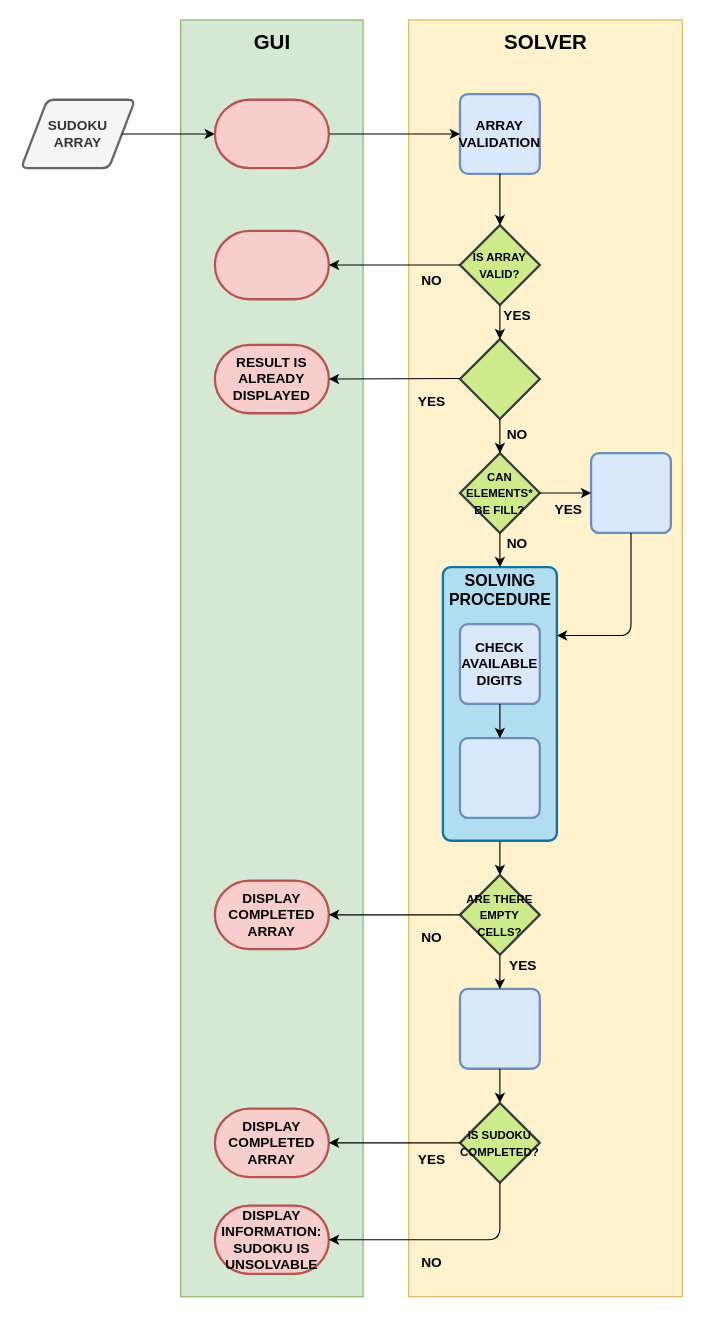
This 702x1317 diagram has some shape labels left out. The box of each missing label's shape, as (x1, y1, x2, y2) in pixels:
CHECK EMPTY CELLS: (458, 736, 540, 819)
DISPLAY INFORMATION: (213, 229, 329, 300)
ENTER SUDOKU: (213, 98, 329, 169)
FILL ELEMENTS: (589, 451, 671, 534)
IS ALREADY COMPLETED?: (458, 337, 540, 420)
RANDOM CHECK: (458, 987, 540, 1069)
